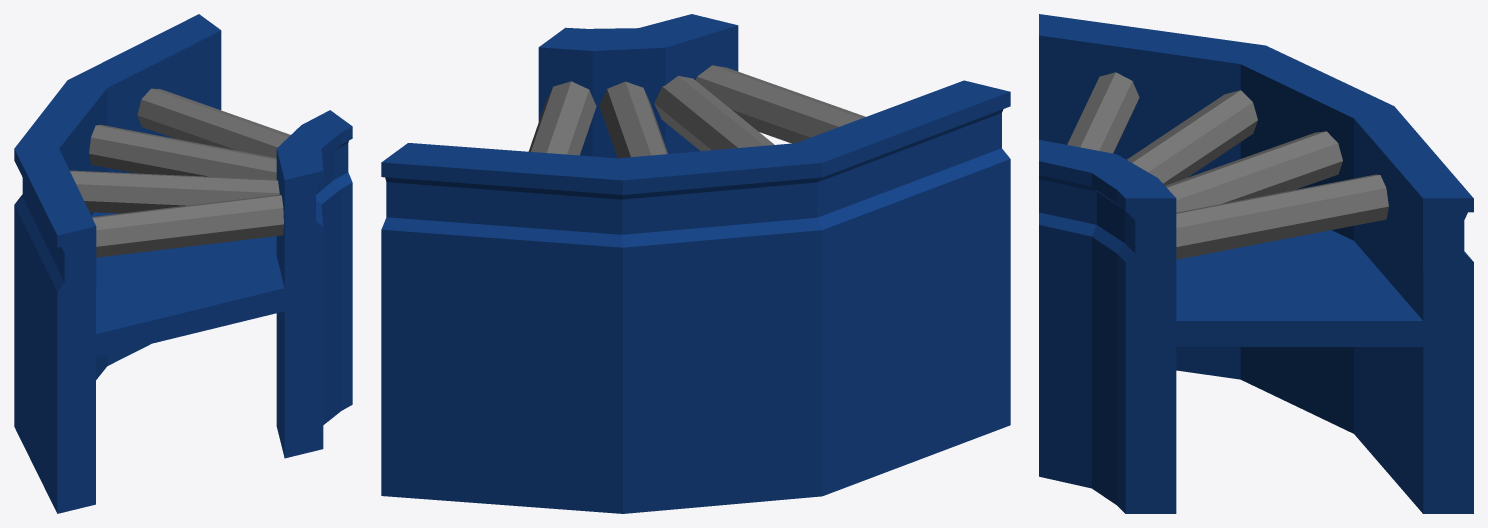
File: conveyor_curve.fbx
3 views of the same model, side by side, from view 1: azimuth 30°, elevation 25°; view 2: azimuth 150°, elevation 25°; view 3: azimuth 270°, elevation 25° (orthographic). The views are drawn at different scales.
Visible parts, largest first — view 1: Cube.002, Cylinder.001; view 2: Cube.002, Cylinder.001; view 3: Cube.002, Cylinder.001.
Part boxes in pixels (bbox=[...]): Cube.002: bbox=[14, 14, 352, 513]; Cylinder.001: bbox=[69, 88, 290, 257]; Cube.002: bbox=[381, 14, 1010, 513]; Cylinder.001: bbox=[528, 65, 865, 158]; Cube.002: bbox=[1039, 14, 1473, 513]; Cylinder.001: bbox=[1067, 72, 1388, 259].
Size of the model in its own units: 83.14 by 66.33 by 82.82.
